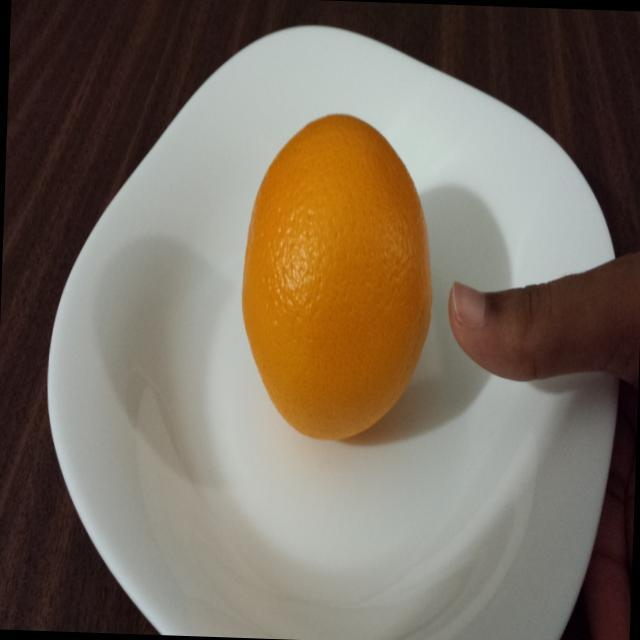Orange: (213, 96, 448, 464)
